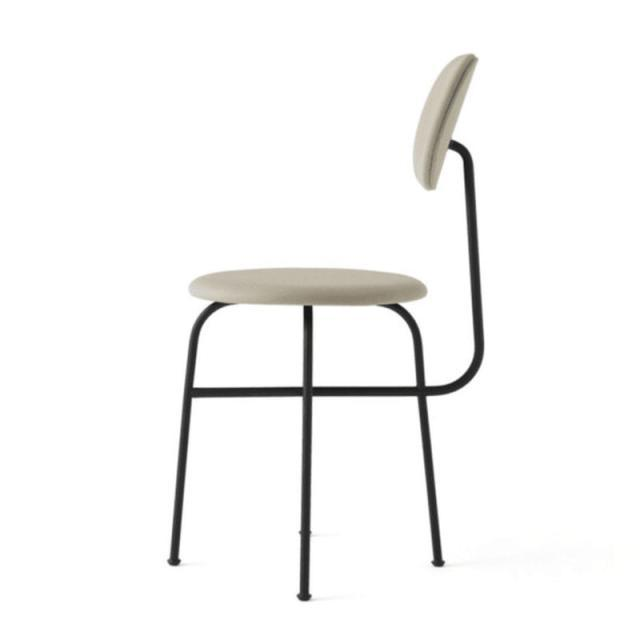chair: (165, 44, 500, 605), (168, 52, 502, 306)
